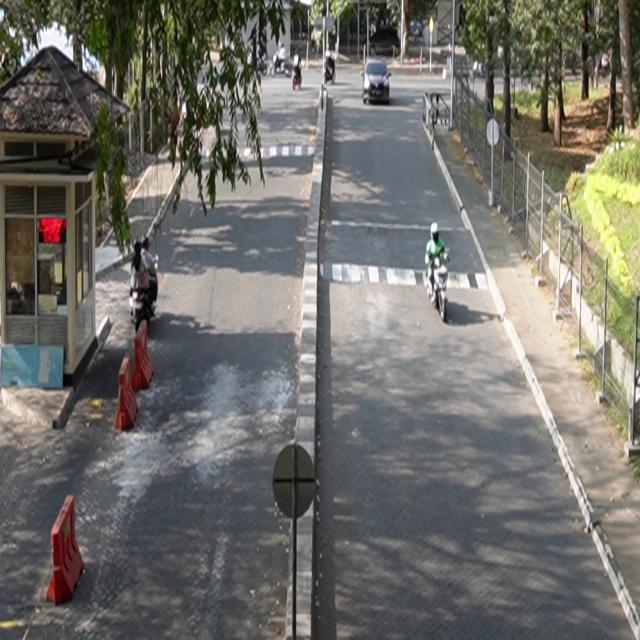car: (361, 60, 393, 105)
